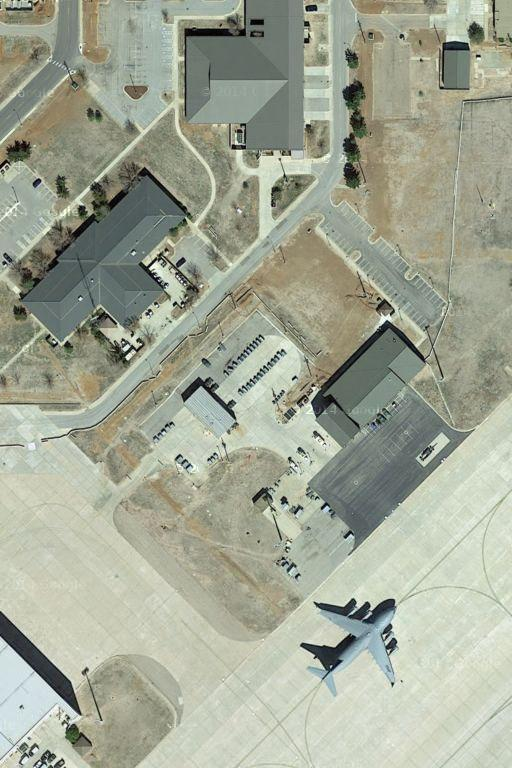C-17: (298, 597, 406, 699)
